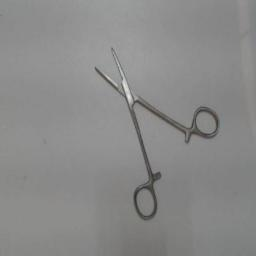Mayo Needle Holder: (87, 38, 223, 222)
